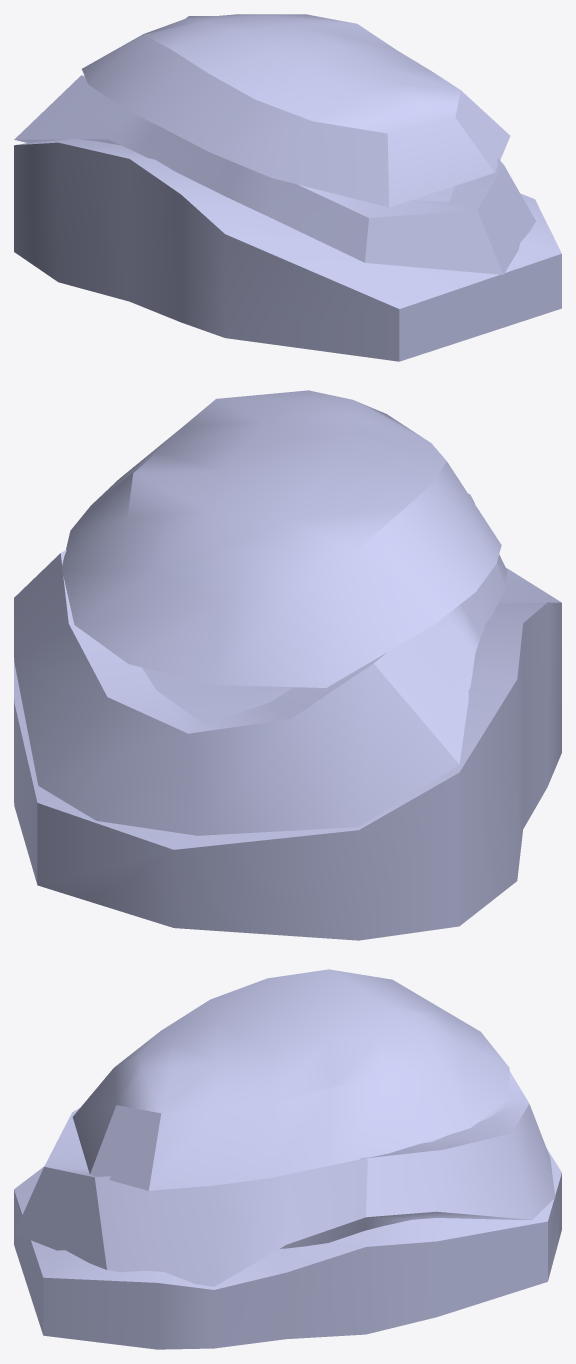
Rendered from mouse_mesh_WIP.fbx.
The picture shows the model from 3 angles, top to bottom: view 1: azimuth 30°, elevation 25°; view 2: azimuth 150°, elevation 25°; view 3: azimuth 270°, elevation 25°; orthographic projection. The views are drawn at different scales.
Parts seen in each view (by area): view 1: mouse_bot_WIP_mesh, top_mouse_WIP_mesh, middle_mouse_WIP_mesh; view 2: top_mouse_WIP_mesh, mouse_bot_WIP_mesh, middle_mouse_WIP_mesh; view 3: top_mouse_WIP_mesh, middle_mouse_WIP_mesh, mouse_bot_WIP_mesh.
Part boxes in pixels (left/top/right/bottom): mouse_bot_WIP_mesh: left=14, top=138, right=561, bottom=361; top_mouse_WIP_mesh: left=82, top=14, right=510, bottom=207; middle_mouse_WIP_mesh: left=14, top=75, right=535, bottom=274; top_mouse_WIP_mesh: left=61, top=390, right=501, bottom=687; mouse_bot_WIP_mesh: left=14, top=568, right=561, bottom=940; middle_mouse_WIP_mesh: left=14, top=493, right=507, bottom=835; top_mouse_WIP_mesh: left=72, top=969, right=509, bottom=1190; middle_mouse_WIP_mesh: left=14, top=1058, right=555, bottom=1286; mouse_bot_WIP_mesh: left=14, top=1101, right=561, bottom=1349.
Size of the model in its own units: 1.31 by 0.7412 by 1.54.
